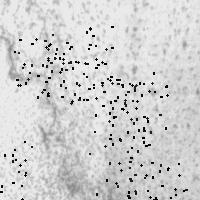pitted_surface: (15, 1, 197, 196), (14, 38, 74, 96), (52, 26, 111, 84), (47, 43, 105, 102), (109, 72, 166, 131), (89, 136, 148, 193), (93, 82, 150, 138), (127, 161, 185, 200), (0, 138, 31, 198)
